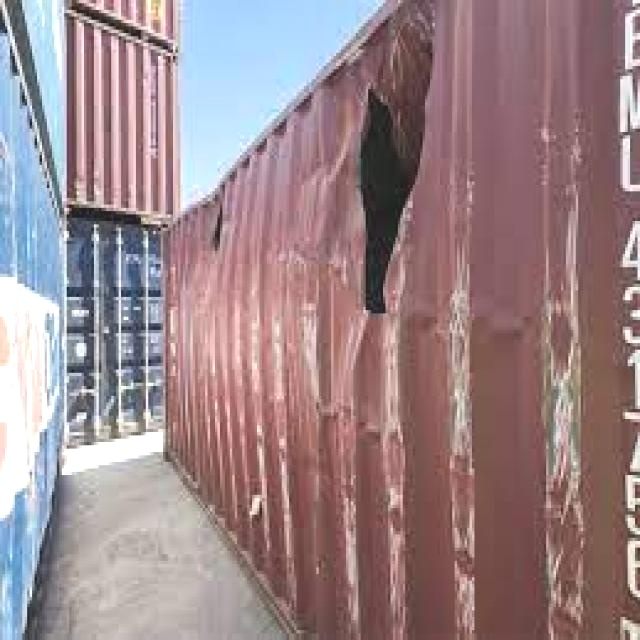Hole: (335, 74, 457, 319), (199, 210, 249, 269)
